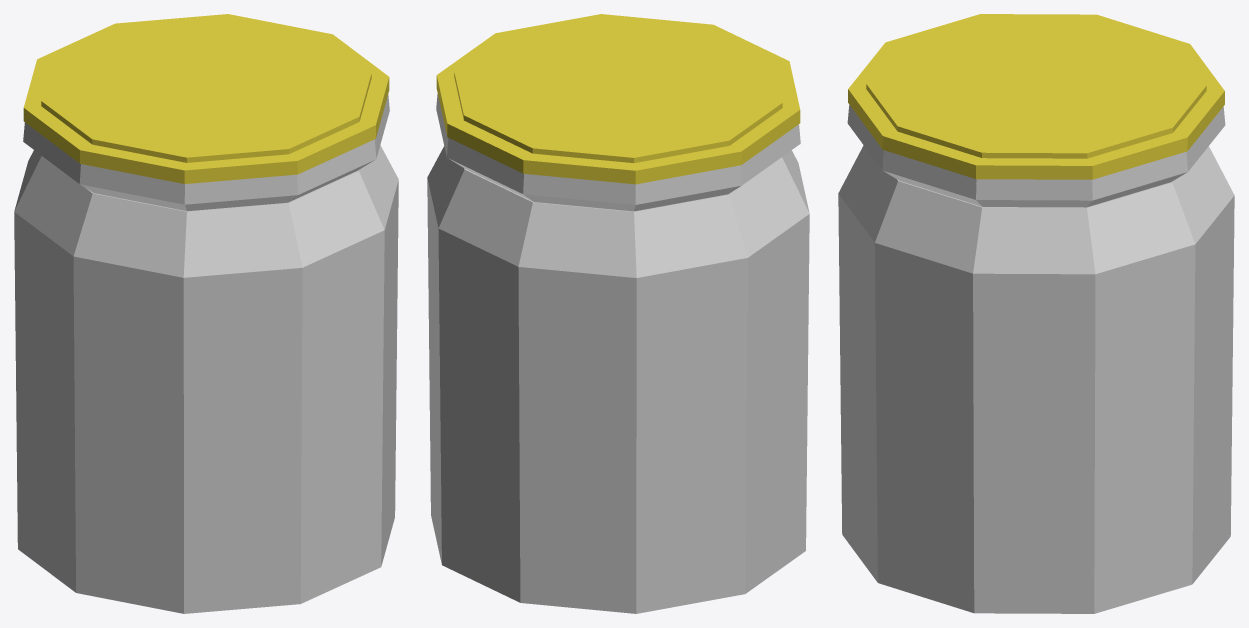
File: BANKA.fbx
The picture shows the model from 3 angles, left to right: view 1: azimuth 30°, elevation 25°; view 2: azimuth 150°, elevation 25°; view 3: azimuth 270°, elevation 25°; orthographic projection.
Parts seen in each view (by area): view 1: Banka, Cap; view 2: Banka, Cap; view 3: Banka, Cap.
Part boxes in pixels (x1,y1,x2,y2): Banka: (14,95,398,613); Cap: (23,14,389,183); Banka: (427,94,809,613); Cap: (436,14,800,184); Banka: (838,105,1234,613); Cap: (848,14,1224,179).
Size of the model in its own units: 0.6893 by 0.722 by 0.9065.
